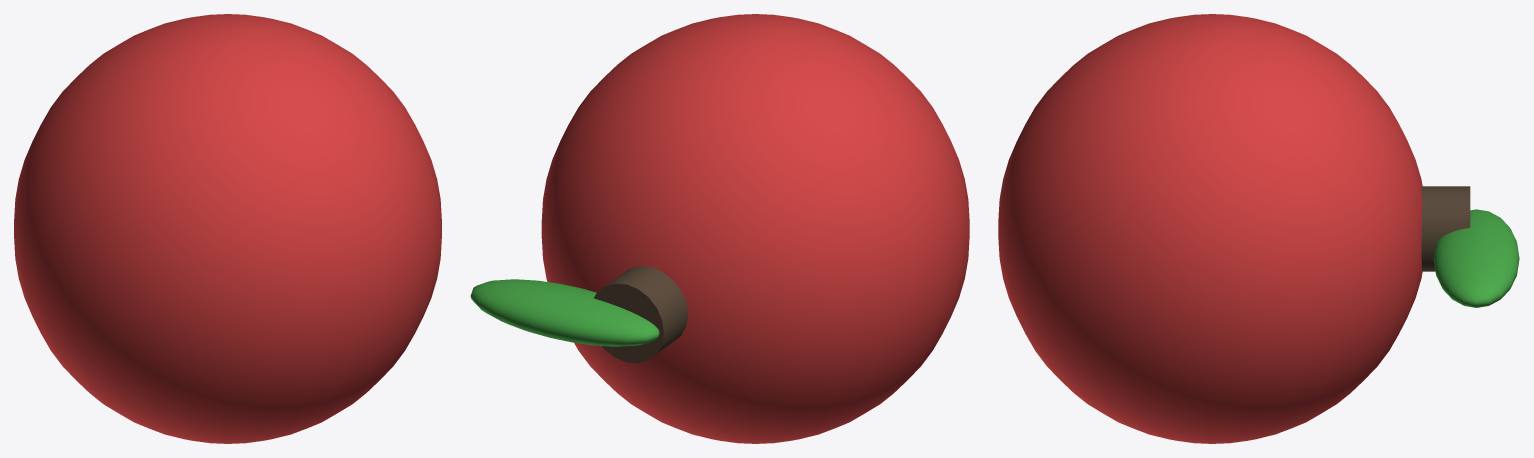
Rendered from Berry1.fbx.
3 views of the same model, side by side, from view 1: azimuth 30°, elevation 25°; view 2: azimuth 150°, elevation 25°; view 3: azimuth 270°, elevation 25° (orthographic).
Parts seen in each view (by area): view 1: Berry; view 2: Berry; view 3: Berry.
Part boxes in pixels (left/top/right/bottom): Berry: left=14, top=14, right=441, bottom=443; Berry: left=470, top=14, right=969, bottom=443; Berry: left=998, top=14, right=1519, bottom=443.
Bounding box in the file's own units: 1 × 1 × 1.21.
